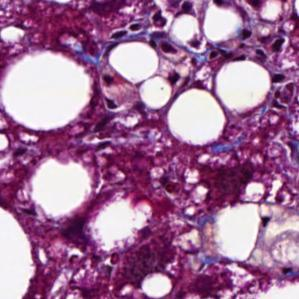inflammation: (224, 25, 291, 63), (108, 8, 170, 43), (160, 57, 216, 91), (269, 71, 299, 124)
